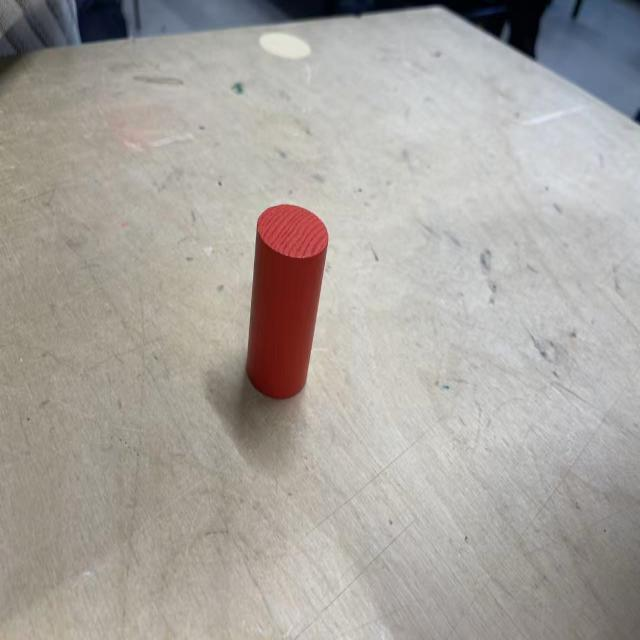red_cylinder: (244, 204, 330, 401)
